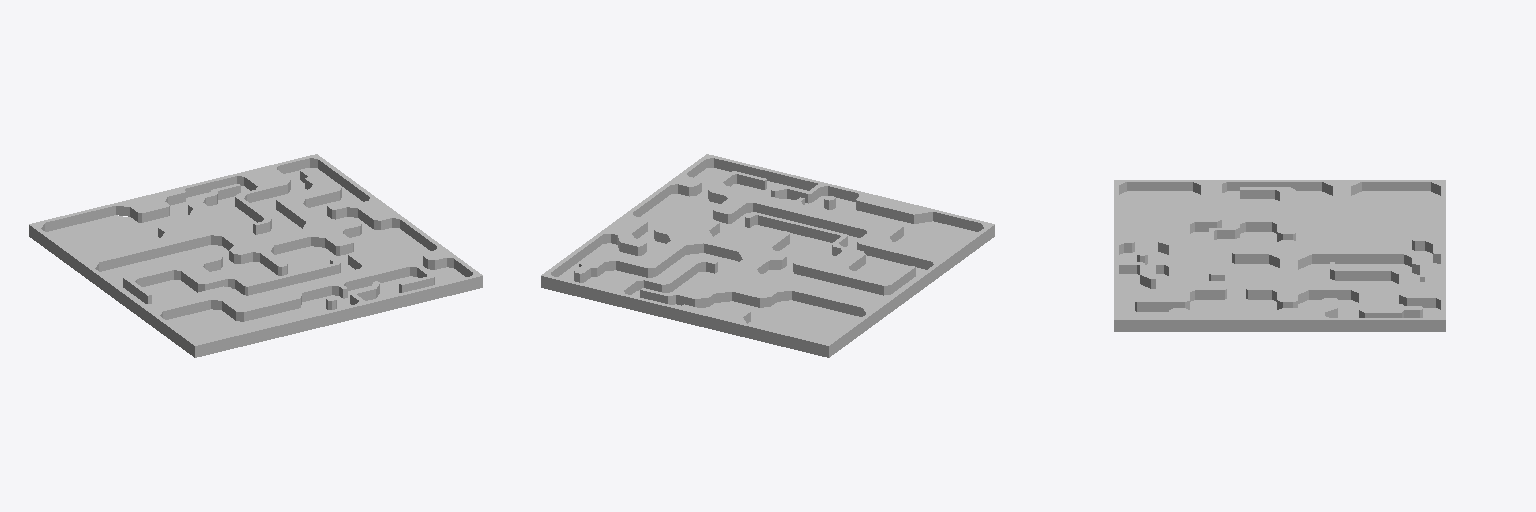
File: Main2.obj
3 renders of one model, left to right at view 1: azimuth 30°, elevation 25°; view 2: azimuth 150°, elevation 25°; view 3: azimuth 270°, elevation 25°, orthographic.
Parts seen in each view (by area): view 1: Main:Mesh; view 2: Main:Mesh; view 3: Main:Mesh.
Boxes of the visible parts, x1=… form: Main:Mesh: x1=29, y1=154, x2=482, y2=357; Main:Mesh: x1=541, y1=154, x2=994, y2=357; Main:Mesh: x1=1114, y1=180, x2=1445, y2=331.
Bounding box in the file's own units: 126 × 5 × 126.